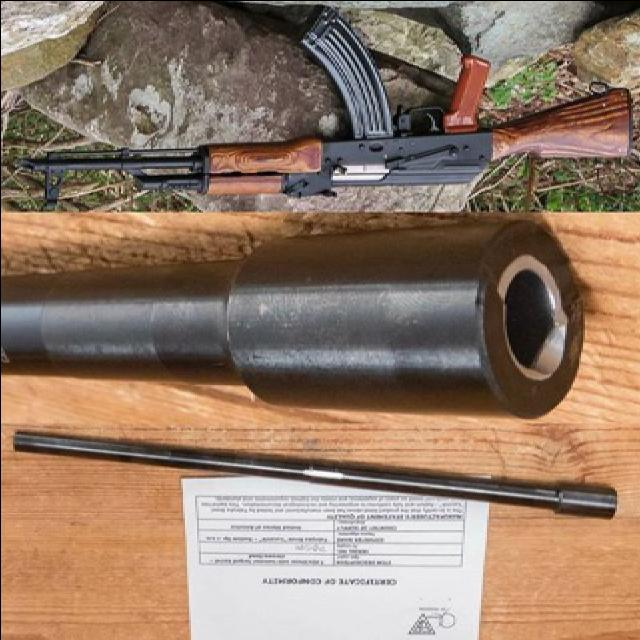rifle: (23, 17, 637, 205)
